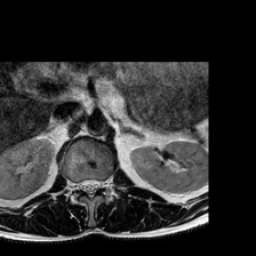CCS_normal: (86, 170, 94, 206)
LFS_normal: (100, 170, 108, 196)
LLS_normal: (94, 170, 101, 197)
RFS_normal: (70, 171, 78, 197)
RLS_normal: (78, 171, 86, 197)
